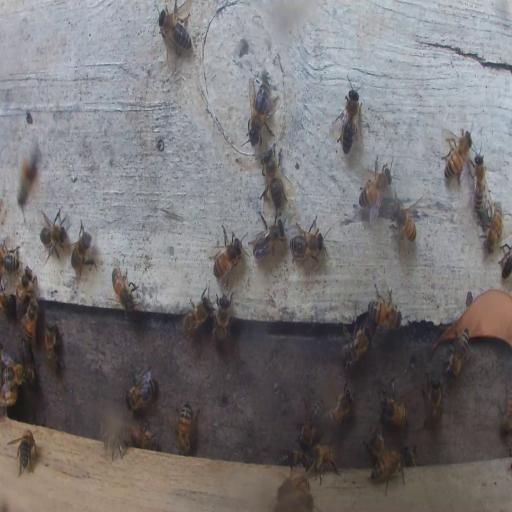bee: (358, 158, 390, 224), (260, 148, 291, 211), (248, 76, 277, 140), (211, 224, 243, 281), (157, 2, 192, 54), (14, 144, 43, 206), (37, 208, 69, 261), (370, 447, 405, 495), (339, 81, 363, 151), (389, 193, 420, 247), (288, 218, 326, 260), (251, 213, 284, 261), (8, 427, 39, 476), (70, 218, 94, 280), (124, 364, 156, 410), (443, 130, 471, 182), (304, 444, 340, 484), (325, 384, 353, 433), (111, 262, 137, 314), (180, 292, 212, 334), (442, 328, 470, 374), (421, 375, 444, 431), (341, 324, 370, 367), (298, 399, 323, 448), (1, 361, 29, 404), (44, 319, 64, 372), (276, 472, 311, 500), (379, 393, 407, 428), (484, 204, 502, 254), (124, 424, 159, 449), (368, 300, 399, 328), (473, 153, 487, 215), (176, 402, 192, 456), (214, 293, 231, 343), (22, 296, 37, 351), (14, 266, 35, 305), (102, 426, 126, 457), (499, 382, 511, 440), (365, 429, 385, 462), (3, 246, 20, 273), (500, 243, 512, 276), (0, 281, 12, 313), (401, 446, 416, 468), (278, 451, 296, 466)
